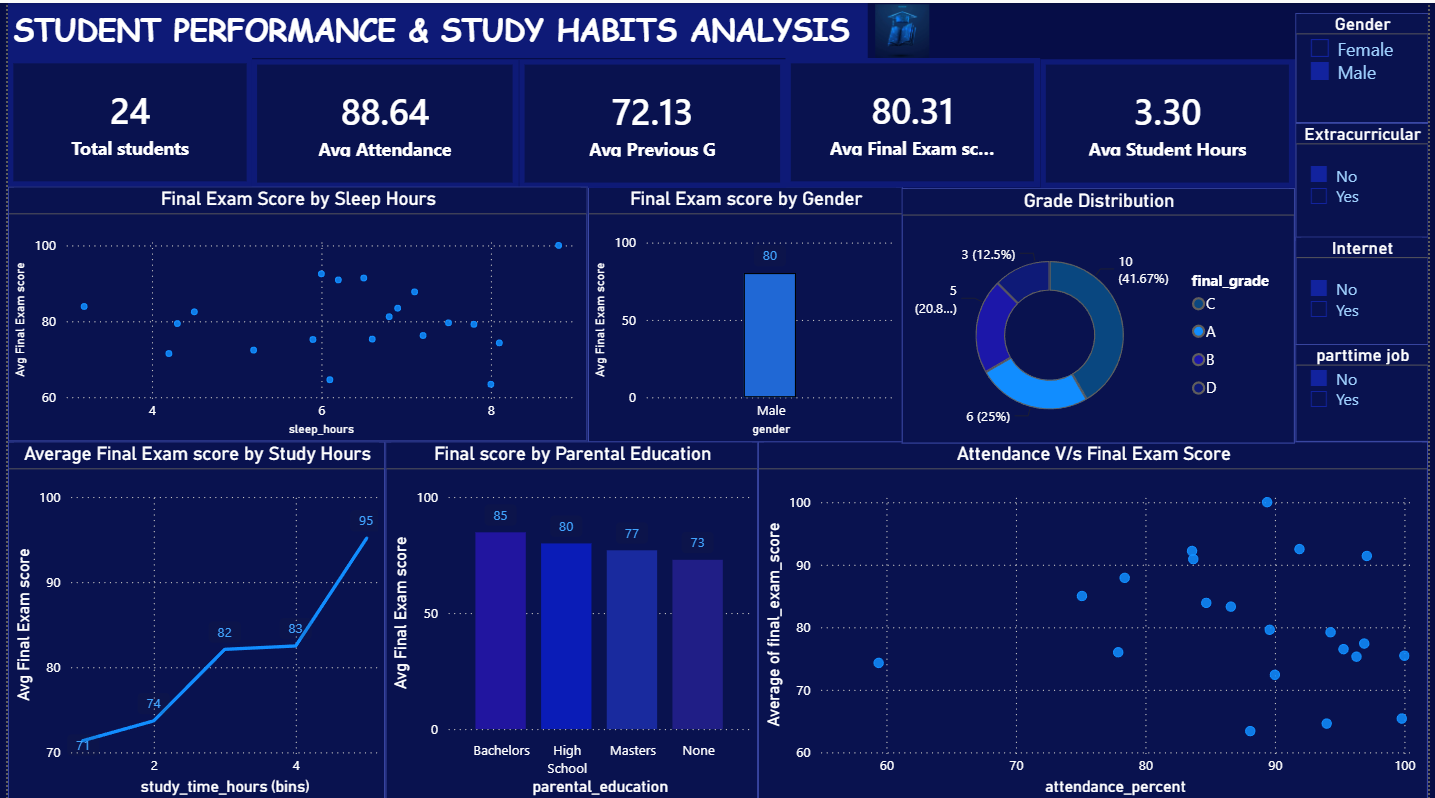

The dashboard page shown, as its layout file describes it:
{"tool":"powerbi","page":{"name":"Page 1","canvas":[1280,720],"ordinal":0},"visuals":[{"type":"cardVisual","fields":{"Data":["student_performance_dataset.Total students"]},"box":[0,49.7,220.2,116.3],"z":0},{"type":"image","box":[767.4,0.9,77,48.9],"z":1000},{"type":"clusteredColumnChart","title":"Final Exam score by Gender","fields":{"Category":["student_performance_dataset.gender"],"Y":["student_performance_dataset.Avg Final Exam score"]},"box":[522.4,165.9,283.6,230],"z":2000},{"type":"scatterChart","title":"Attendance V/s Final Exam Score","fields":{"X":["student_performance_dataset.attendance_percent"],"Y":["Avg(student_performance_dataset.final_exam_score)"]},"box":[676.5,396,603.9,324.3],"z":3000},{"type":"cardVisual","fields":{"Data":["student_performance_dataset.Avg Final Exam score"]},"box":[701,50.1,229.9,116.5],"z":4000},{"type":"cardVisual","fields":{"Data":["student_performance_dataset.Avg Attendance"]},"box":[220.1,50.2,240.7,116.1],"z":5000},{"type":"cardVisual","fields":{"Data":["student_performance_dataset.Avg Student Hours"]},"box":[931.1,50.2,229.6,116.1],"z":6000},{"type":"cardVisual","fields":{"Data":["student_performance_dataset.Avg Previous Grade"]},"box":[460.8,50.2,240.7,116.1],"z":7000},{"type":"lineChart","title":"Average Final Exam score by Study Hours","fields":{"Category":["student_performance_dataset.study_time_hours (bins)"],"Y":["student_performance_dataset.Avg Final Exam score"]},"box":[0,395.5,339.9,324.3],"z":8000},{"type":"clusteredColumnChart","title":" Final score by Parental Education","fields":{"Y":["student_performance_dataset.Avg Final Exam score"],"Category":["student_performance_dataset.parental_education"]},"box":[340.3,396,336.2,324.3],"z":9000},{"type":"slicer","title":"Gender ","fields":{"Values":["student_performance_dataset.gender"]},"box":[1160.6,9.4,119.7,98.8],"z":10000},{"type":"textbox","box":[0,0,774.9,49.7],"z":11000},{"type":"slicer","title":"Extracurricular","fields":{"Values":["student_performance_dataset.extracurricular_activities"]},"box":[1160.6,108.2,119.7,106.2],"z":12000},{"type":"slicer","title":"Internet","fields":{"Values":["student_performance_dataset.internet_access"]},"box":[1160.6,210.8,119.7,97.6],"z":13000},{"type":"slicer","title":"parttime job","fields":{"Values":["student_performance_dataset.part_time_job"]},"box":[1160.6,307.9,119.8,88.1],"z":14000},{"type":"scatterChart","title":"Final Exam Score by Sleep Hours","fields":{"X":["student_performance_dataset.sleep_hours"],"Y":["student_performance_dataset.Avg Final Exam score"]},"box":[0,165.5,522.2,229.9],"z":15000},{"type":"donutChart","title":"Grade Distribution","fields":{"Category":["student_performance_dataset.final_grade"],"Y":["student_performance_dataset.Total students"]},"box":[805.9,166.8,354.5,230],"z":16000}]}

Visuals, with their boxes in screenshot pixels (x1, y1, x2, y2), scaled from the page's 1280x720 canvas onto the 1435x798 screenshot:
cardVisual - student_performance_dataset.Total students: box=[0, 55, 247, 184]
image: box=[860, 1, 947, 55]
"Final Exam score by Gender" clusteredColumnChart: box=[586, 184, 904, 439]
"Attendance V/s Final Exam Score" scatterChart: box=[758, 439, 1434, 797]
cardVisual - student_performance_dataset.Avg Final Exam score: box=[786, 56, 1044, 185]
cardVisual - student_performance_dataset.Avg Attendance: box=[247, 56, 517, 184]
cardVisual - student_performance_dataset.Avg Student Hours: box=[1044, 56, 1301, 184]
cardVisual - student_performance_dataset.Avg Previous Grade: box=[517, 56, 786, 184]
"Average Final Exam score by Study Hours" lineChart: box=[0, 438, 381, 797]
" Final score by Parental Education" clusteredColumnChart: box=[382, 439, 758, 797]
"Gender " slicer: box=[1301, 10, 1434, 120]
textbox: box=[0, 0, 869, 55]
"Extracurricular" slicer: box=[1301, 120, 1434, 238]
"Internet" slicer: box=[1301, 234, 1434, 342]
"parttime job" slicer: box=[1301, 341, 1434, 439]
"Final Exam Score by Sleep Hours" scatterChart: box=[0, 183, 585, 438]
"Grade Distribution" donutChart: box=[903, 185, 1301, 440]
